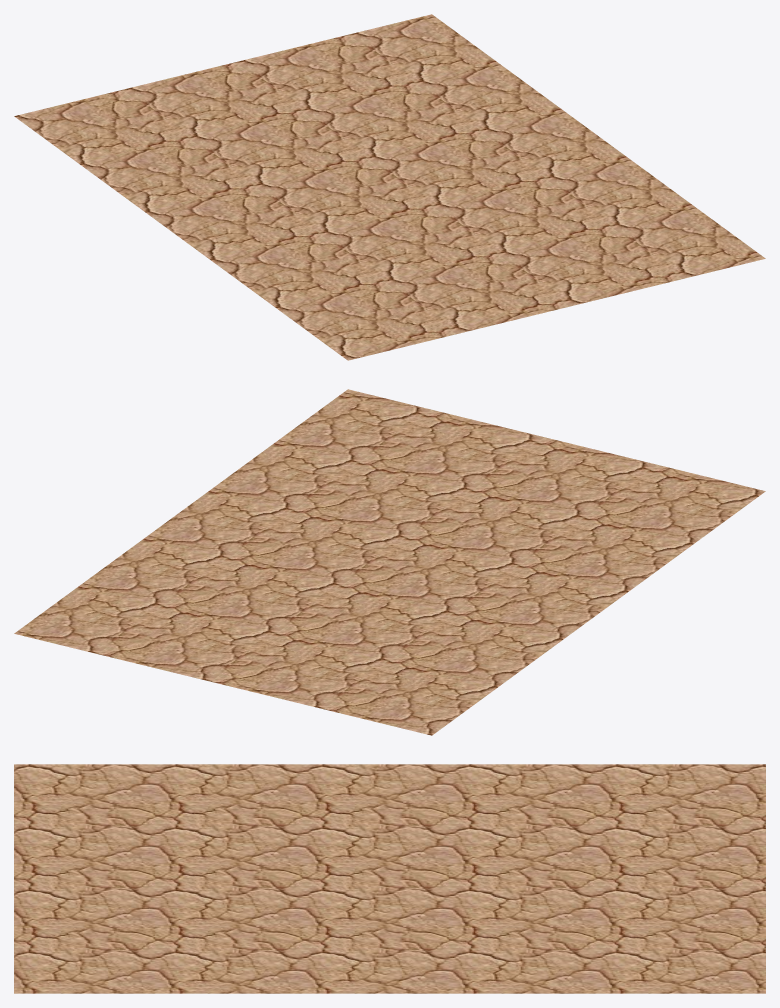
Rendered from zanzibardesert.fbx.
The picture shows the model from 3 angles, top to bottom: view 1: azimuth 30°, elevation 25°; view 2: azimuth 150°, elevation 25°; view 3: azimuth 270°, elevation 25°; orthographic projection. The views are drawn at different scales.
Parts seen in each view (by area): view 1: pPlane1; view 2: pPlane1; view 3: pPlane1.
Part boxes in pixels (x1,y1,x2,y2): pPlane1: (14, 14, 765, 360); pPlane1: (14, 389, 765, 735); pPlane1: (14, 764, 765, 993).
Bounding box in the file's own units: 197 × 2.93e-05 × 273.
Materials: 1 (1 with a texture image).
